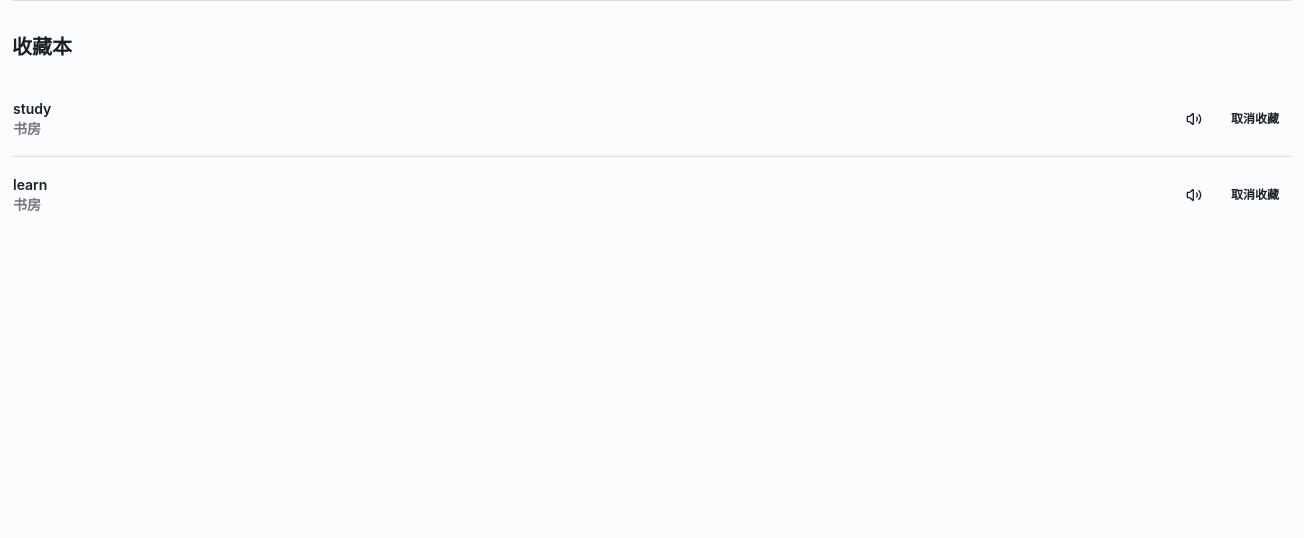
it: WordFavoritesPanel › does not show a row removal failure in a newer detail view
Click the button with aria-label "取消收藏 study" at (1255, 118), box [1218,102,1292,134]
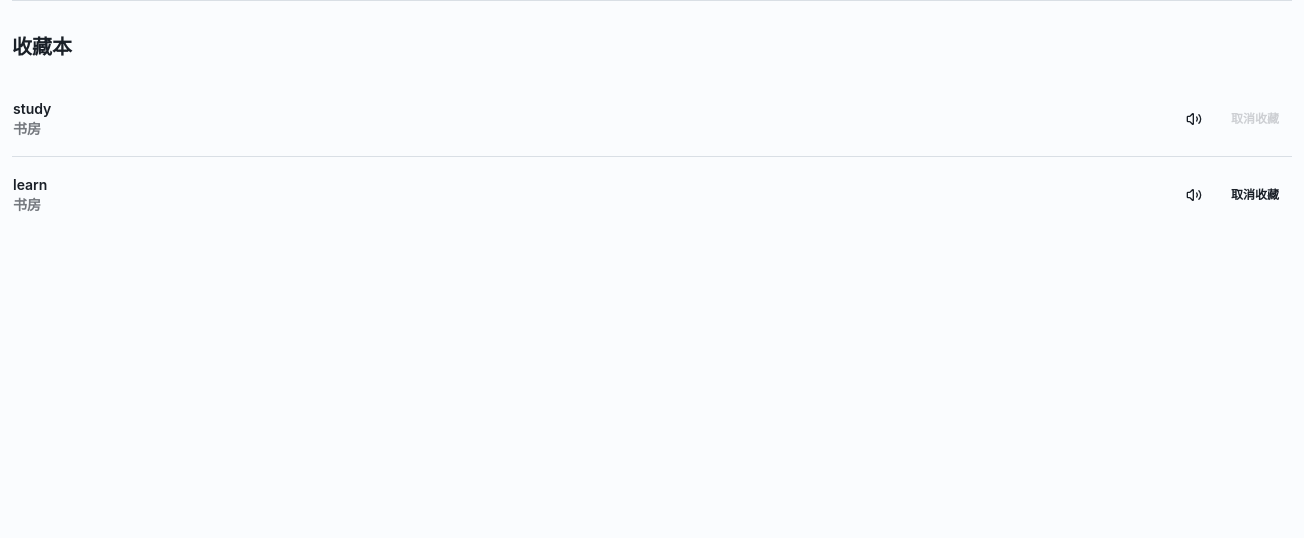
Click the button with aria-label "查看 learn" at (30, 184), box [12,173,1166,216]
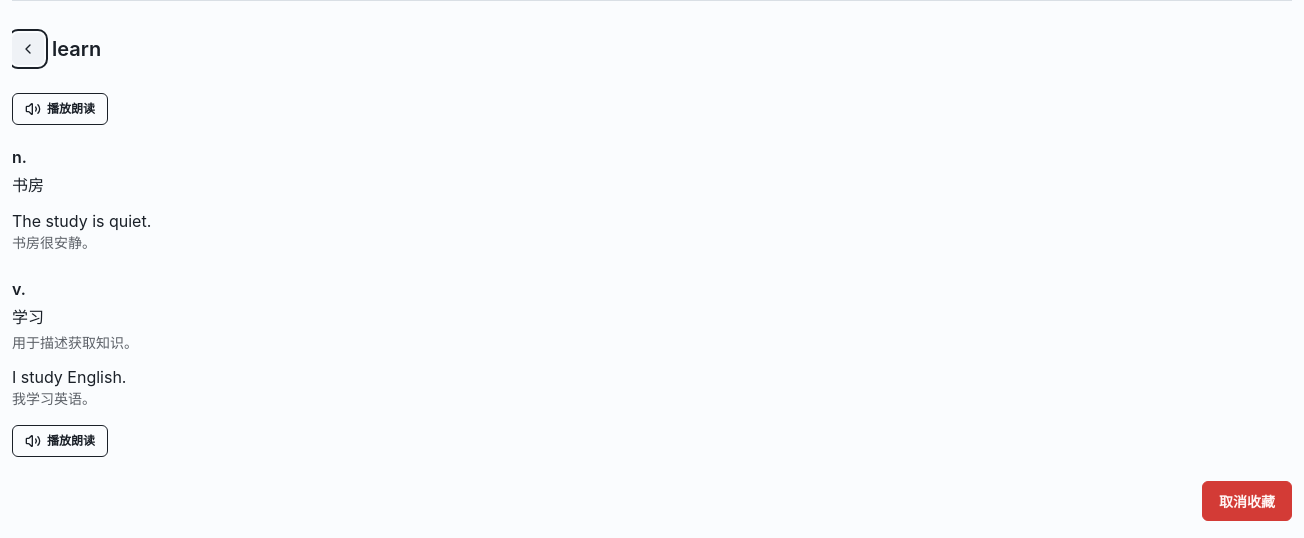
Expected: the element "learn" is shown
